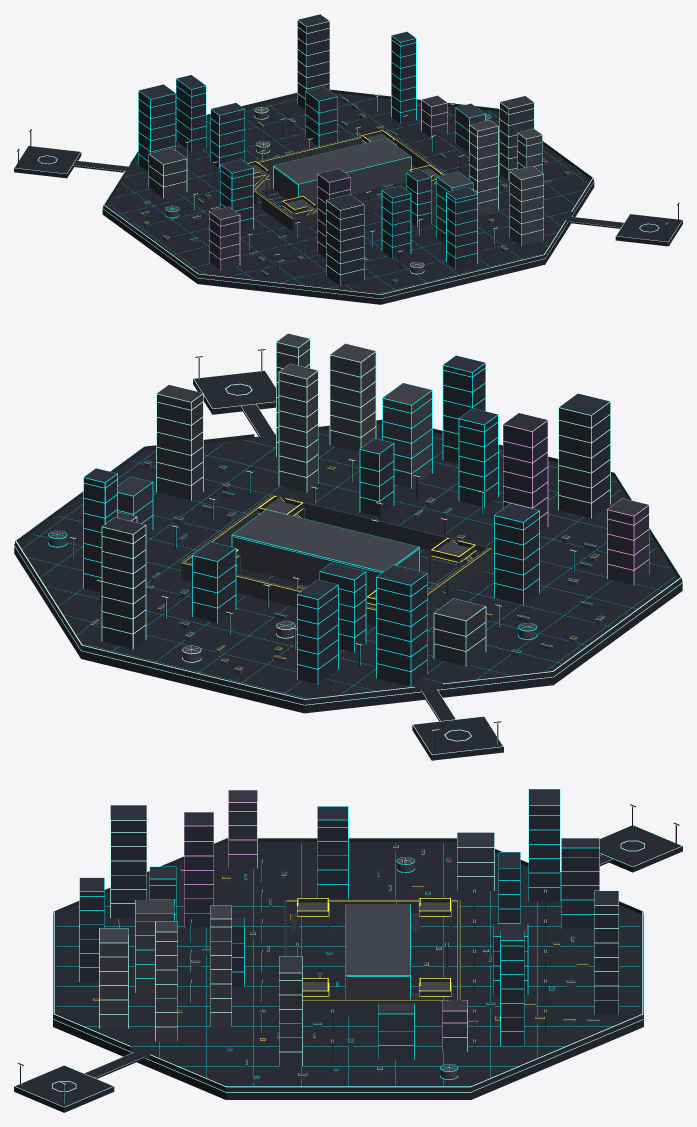
File: heist_cortex.glb
3 renders of one model, top to bottom at view 1: azimuth 30°, elevation 25°; view 2: azimuth 150°, elevation 25°; view 3: azimuth 270°, elevation 25°, orthographic. The views are drawn at different scales.
Parts seen in each view (by area): view 1: Structures, Ground, Trim, Cover; view 2: Structures, Ground, Trim, Cover; view 3: Ground, Structures, Trim, Cover.
Part boxes in pixels (x1,y1,x2,y2): Structures: (17,14,679,297); Ground: (14,92,682,304); Trim: (14,14,682,298); Cover: (140,97,570,284); Structures: (15,333,681,753); Ground: (14,371,682,760); Trim: (14,333,682,754); Cover: (48,460,604,674); Ground: (14,825,682,1112); Structures: (18,789,679,1105); Trim: (14,789,682,1107); Cover: (93,845,599,1082).
Size of the model in its own units: 170 by 33.14 by 170.
